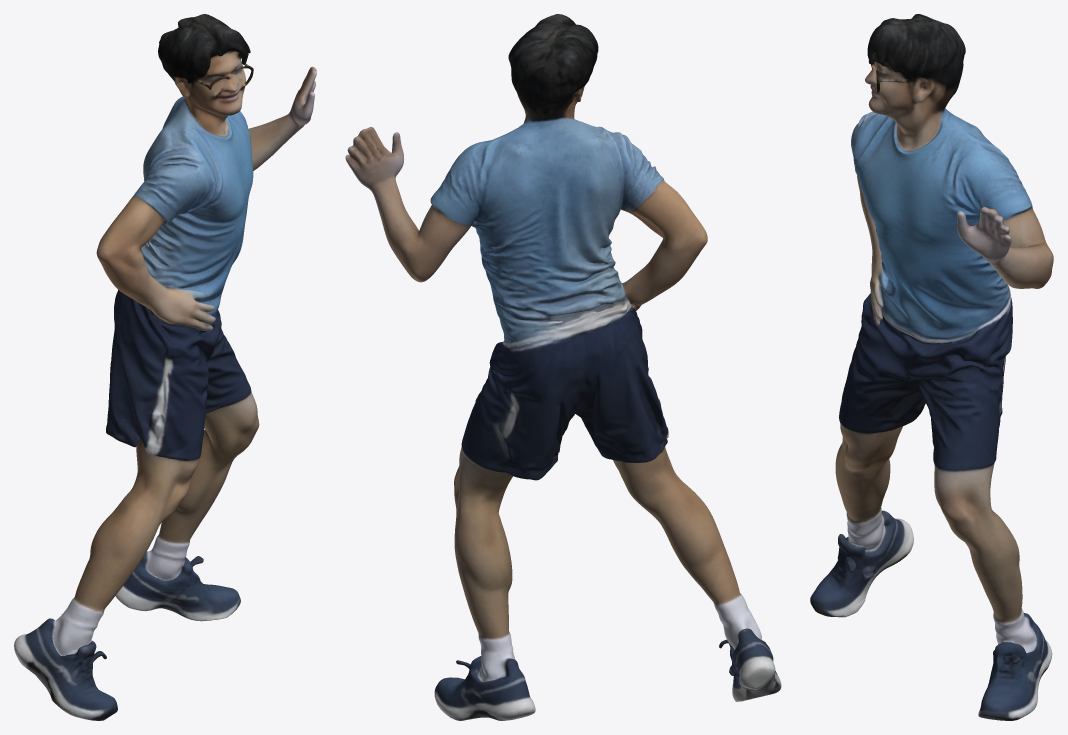
Rendered from player.glb.
3 renders of one model, left to right at view 1: azimuth 30°, elevation 25°; view 2: azimuth 150°, elevation 25°; view 3: azimuth 270°, elevation 25°, orthographic. The views are drawn at different scales.
Parts seen in each view (by area): view 1: world; view 2: world; view 3: world.
Boxes of the visible parts, bbox=[...] form: world: bbox=[14, 14, 316, 720]; world: bbox=[345, 14, 781, 720]; world: bbox=[810, 14, 1053, 720].
Size of the model in its own units: 0.5871 by 1 by 0.3303.
Materials: 1 (1 with a texture image).
